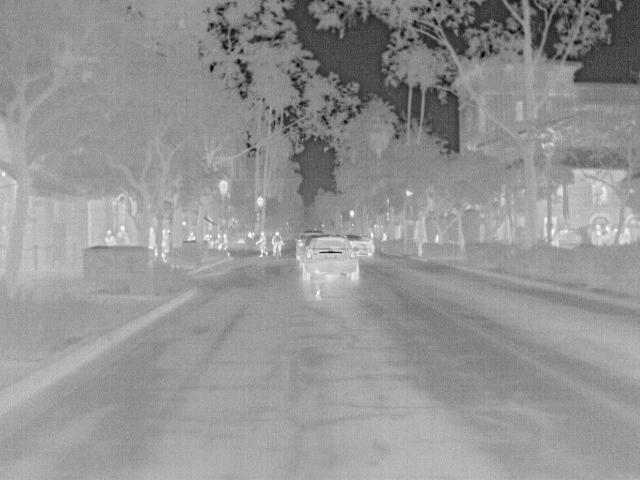car: (300, 236, 362, 283), (300, 233, 333, 269), (293, 230, 327, 260), (346, 235, 375, 258)
person: (254, 230, 269, 257), (114, 223, 130, 246), (272, 231, 284, 257), (102, 228, 116, 246)
